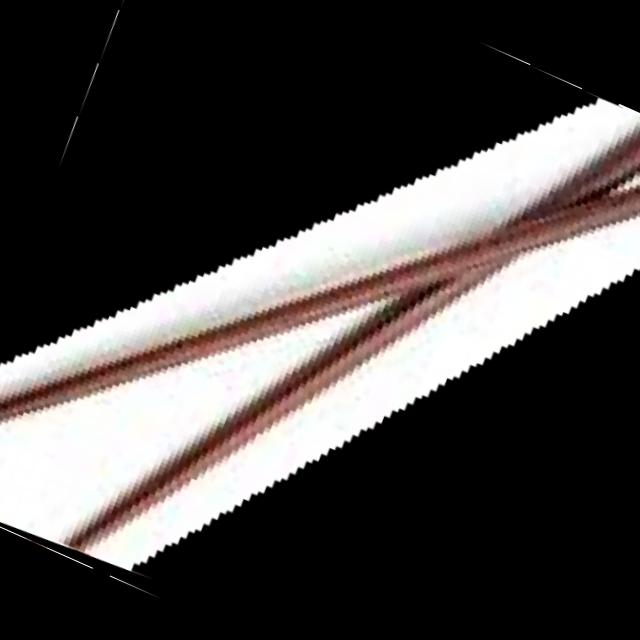others: (0, 102, 640, 569)
